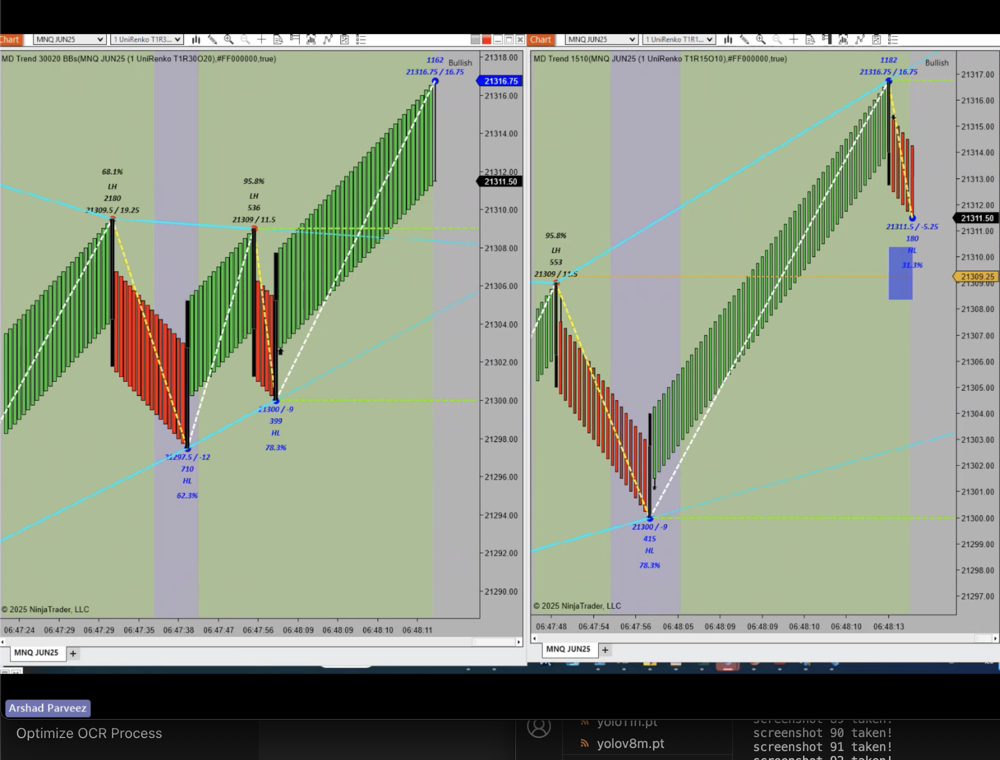HL: (639, 540, 662, 559), (899, 244, 922, 262), (267, 424, 289, 442), (176, 471, 197, 489)
LH: (547, 242, 568, 260), (244, 187, 267, 203), (101, 182, 123, 193)
